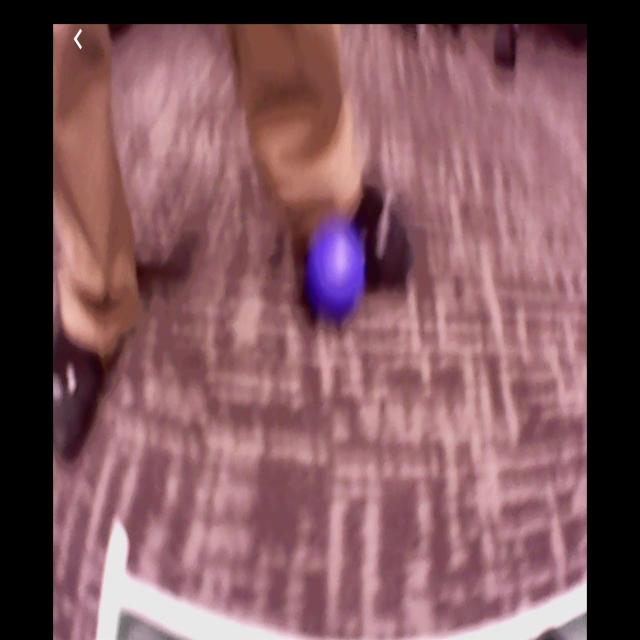ball: (310, 230, 365, 312)
